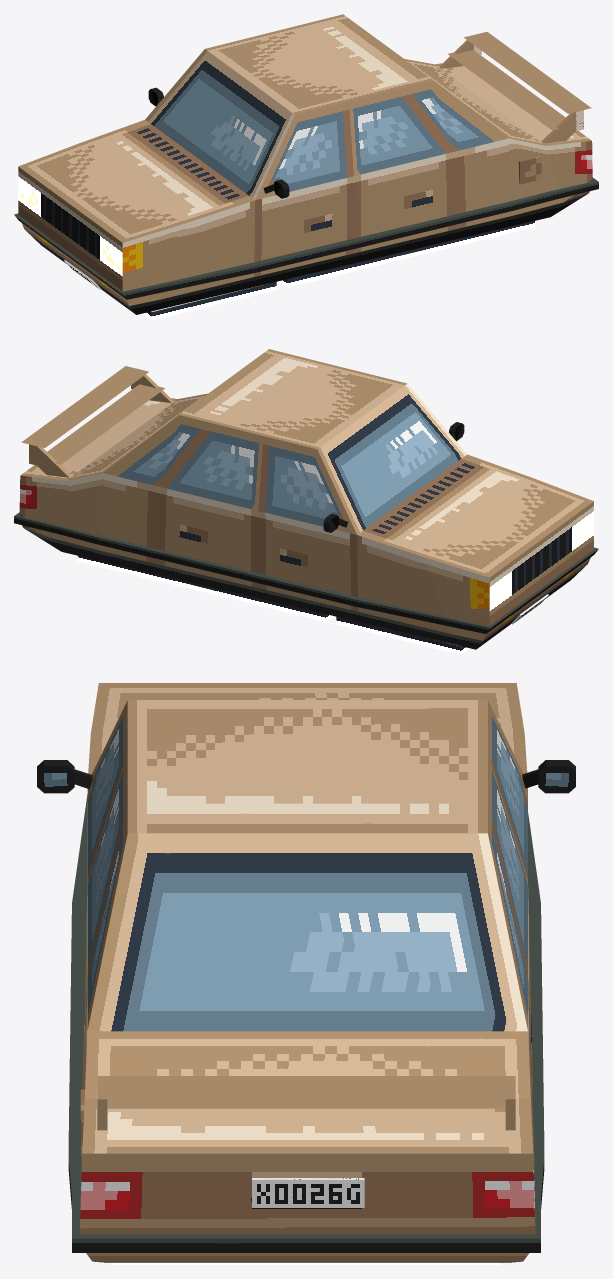
The model's file is NotSoFast.glb.
3 views of the same model, one above another, from view 1: azimuth 30°, elevation 25°; view 2: azimuth 150°, elevation 25°; view 3: azimuth 270°, elevation 25° (orthographic). The views are drawn at different scales.
Visible parts, largest first — view 1: Cube; view 2: Cube; view 3: Cube.
Part boxes in pixels (x1,y1,x2,y2): Cube: (14,14,598,320); Cube: (14,349,598,654); Cube: (37,683,575,1264).
Bounding box in the file's own units: 2.03 × 0.6904 × 1.
Materials: 1 (1 with a texture image).
